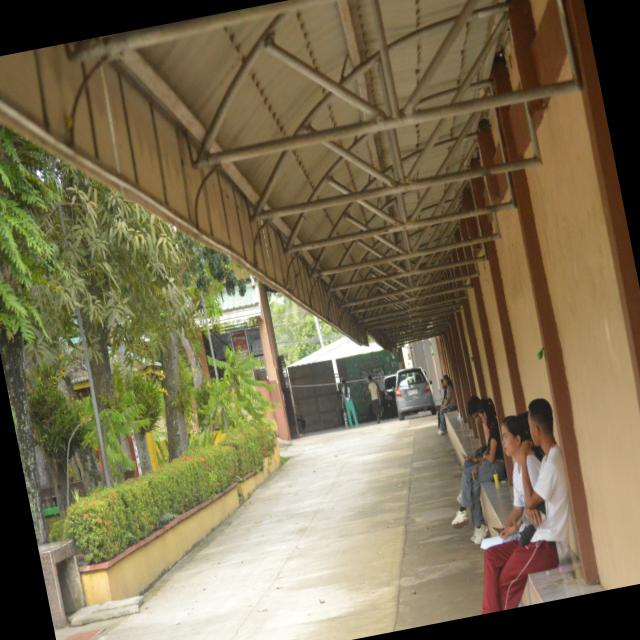person: (482, 399, 569, 613), (452, 399, 505, 544), (342, 378, 359, 427), (368, 374, 381, 423)
